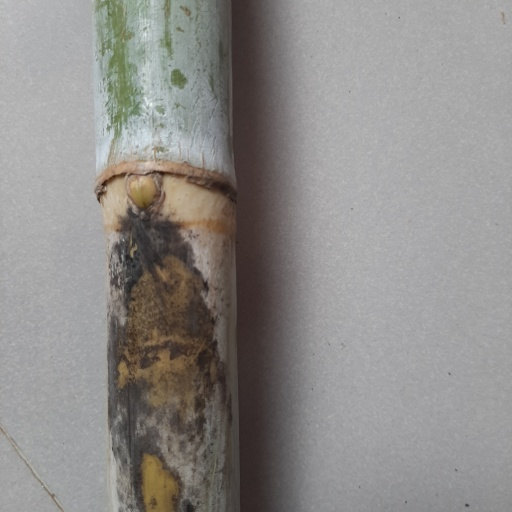Bud: (122, 172, 165, 215)
